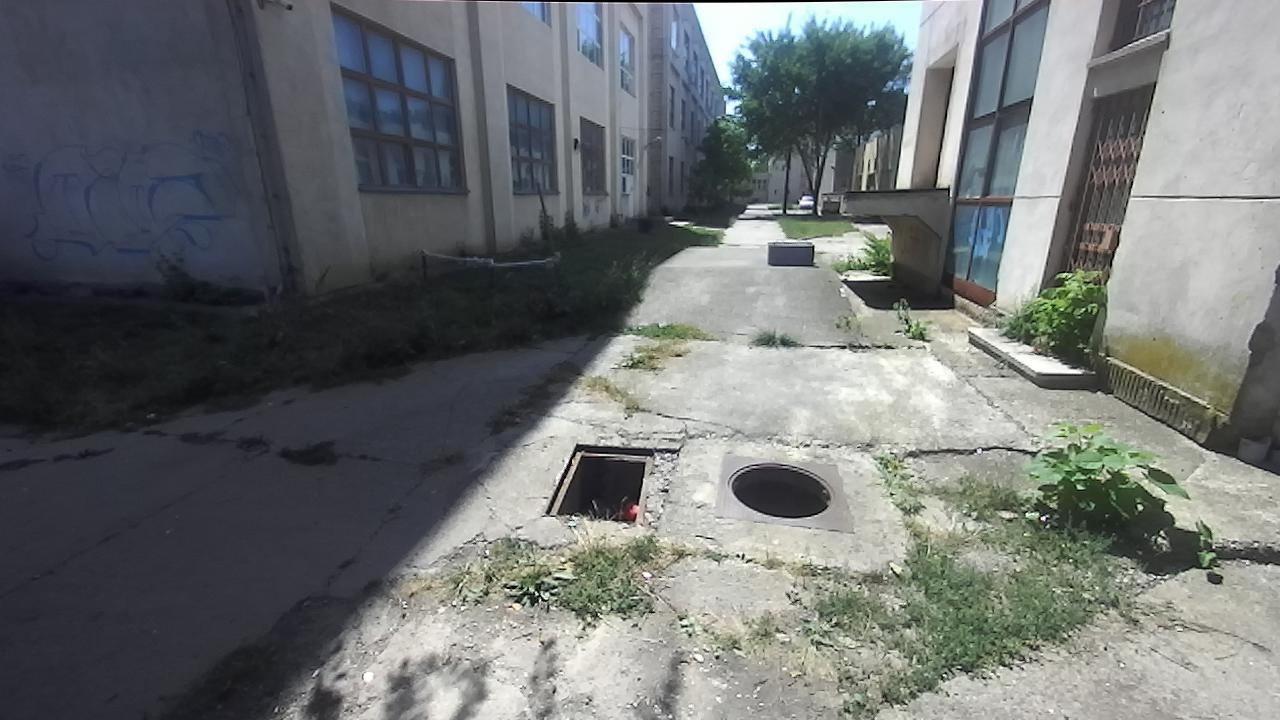drain: (537, 441, 656, 527), (716, 458, 840, 523)
